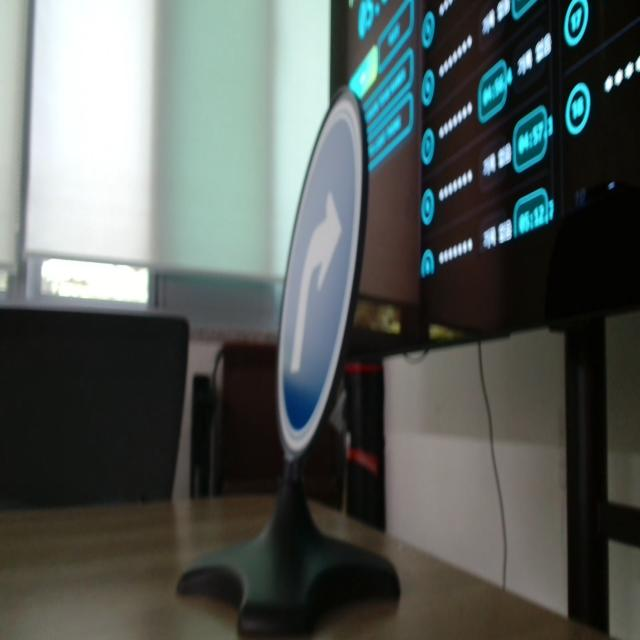right_dierection: (265, 54, 383, 486)
